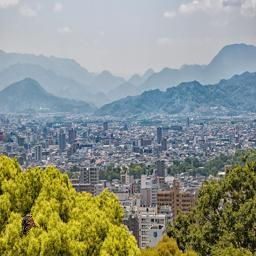Sparrow: (22, 214, 39, 235)
